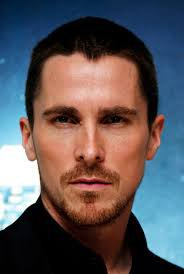noMask: (10, 13, 176, 228)
